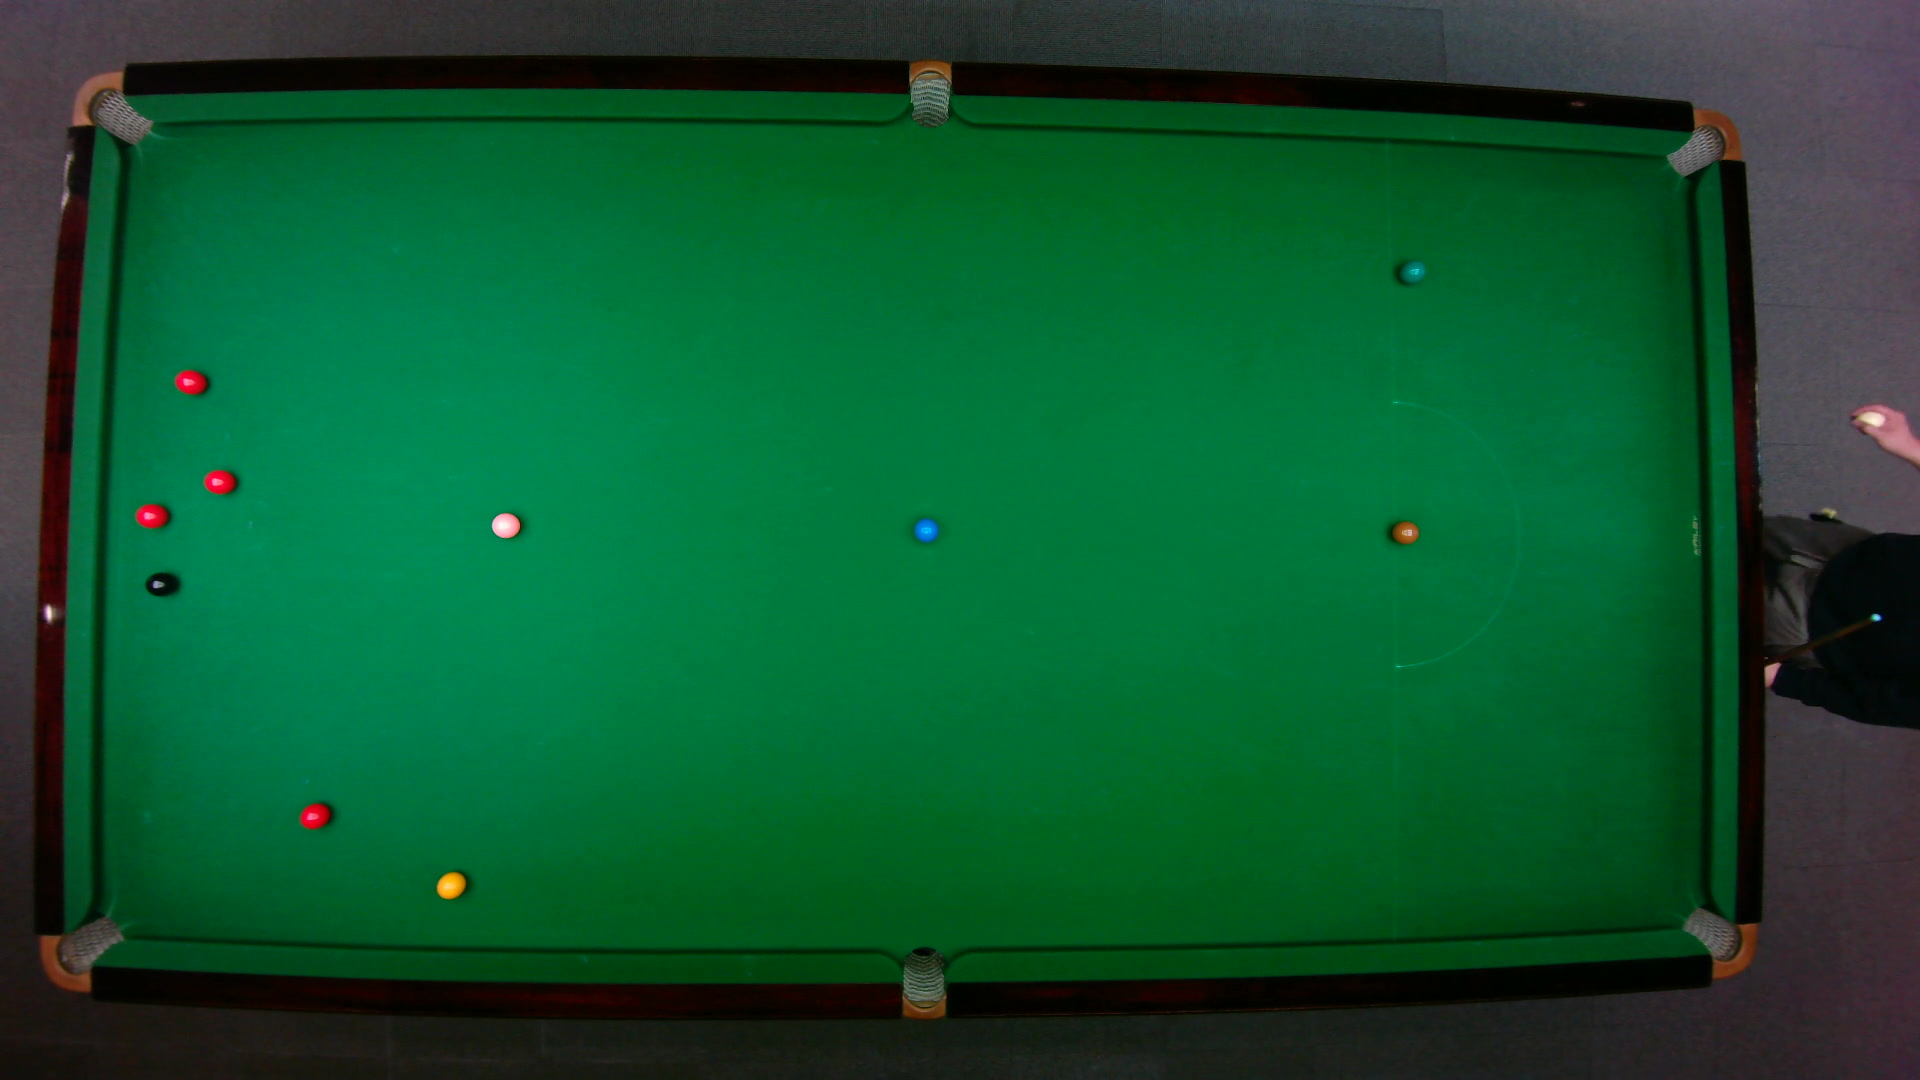bag: (37, 914, 125, 992), (69, 69, 153, 145), (1677, 905, 1756, 978), (1663, 107, 1741, 177), (901, 944, 944, 1021), (909, 57, 949, 128)
black: (142, 571, 175, 597)
blue: (911, 516, 939, 543)
brown: (1390, 520, 1419, 545)
green: (1396, 258, 1425, 284)
pink: (489, 509, 521, 539)
red: (297, 800, 331, 829), (173, 368, 207, 396), (202, 467, 236, 495), (133, 501, 169, 527)
yellow: (435, 869, 465, 899)
zone: (1390, 400, 1520, 669)
